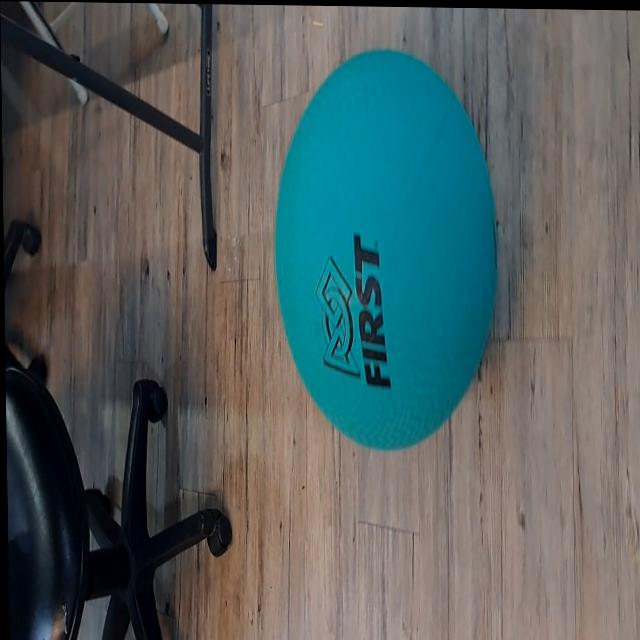ALGAE: (269, 46, 502, 455)
